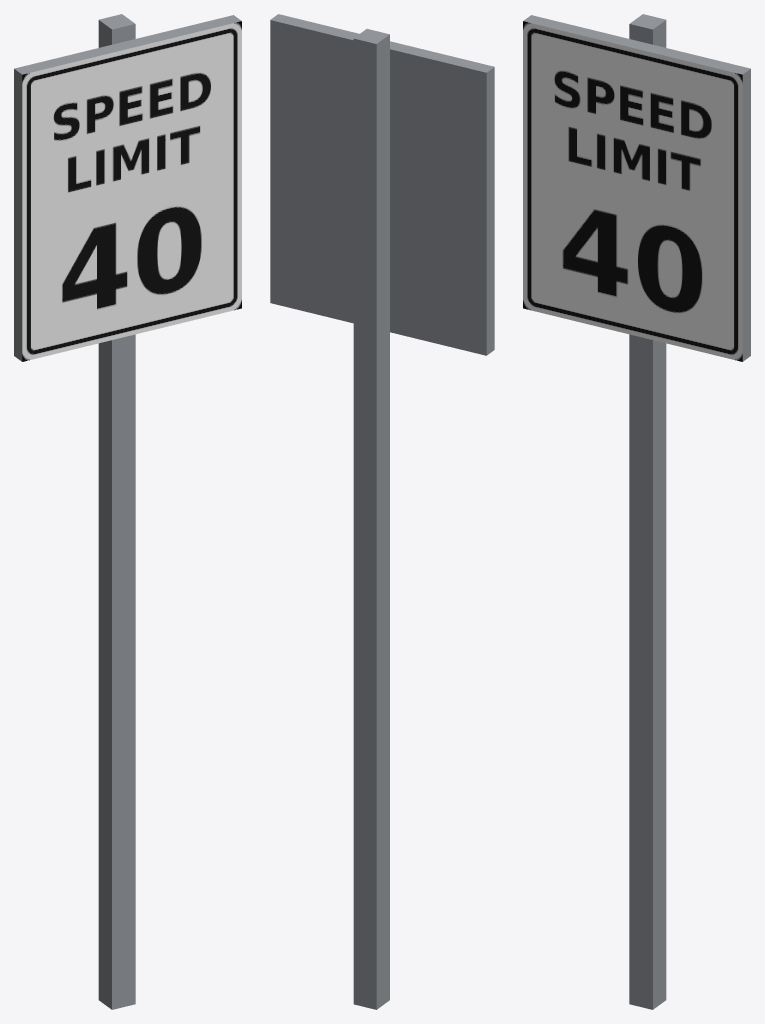
File: us_speed40.dae
The picture shows the model from 3 angles, left to right: view 1: azimuth 30°, elevation 25°; view 2: azimuth 150°, elevation 25°; view 3: azimuth 330°, elevation 25°; orthographic projection.
Parts seen in each view (by area): view 1: sign4, Colmesh-1; view 2: Colmesh-1, sign4; view 3: sign4, Colmesh-1.
Part boxes in pixels (x1=…): sign4: x1=22, y1=14, x2=241, y2=1009; Colmesh-1: x1=14, y1=15, x2=241, y2=361; Colmesh-1: x1=270, y1=14, x2=494, y2=355; sign4: x1=353, y1=29, x2=389, y2=1009; sign4: x1=523, y1=14, x2=742, y2=1009; Colmesh-1: x1=523, y1=15, x2=750, y2=361.
Bounding box in the file's own units: 0.6096 × 0.105 × 2.6.
Materials: 2 (1 with a texture image).
